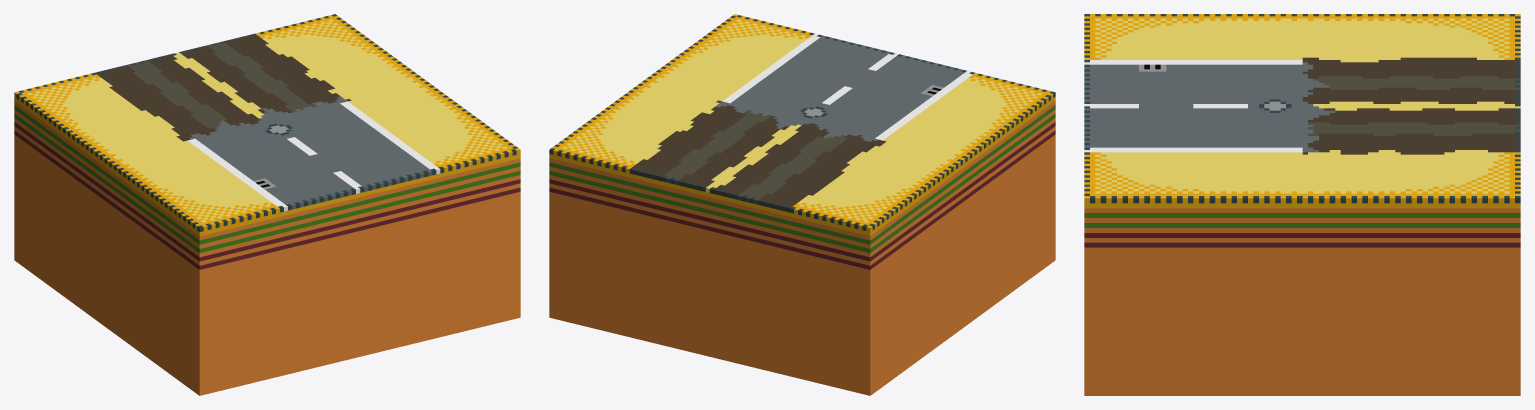
File: sand_road_transition_tile.obj
3 renders of one model, left to right at view 1: azimuth 30°, elevation 25°; view 2: azimuth 150°, elevation 25°; view 3: azimuth 270°, elevation 25°, orthographic. The views are drawn at different scales.
Bounding box in the file's own units: 8 × 4 × 8.
Materials: 1 (1 with a texture image).
